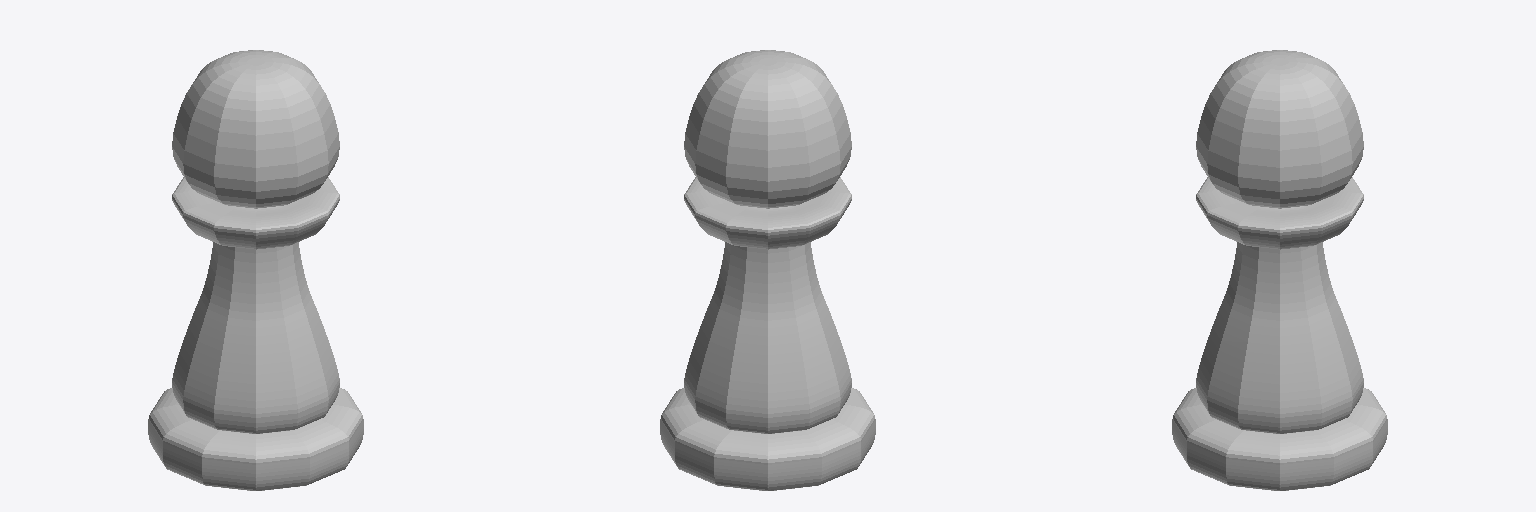
The model's file is pionek.obj.
3 renders of one model, left to right at view 1: azimuth 30°, elevation 25°; view 2: azimuth 150°, elevation 25°; view 3: azimuth 270°, elevation 25°, orthographic.
Visible parts, largest first — view 1: BézierCurve; view 2: BézierCurve; view 3: BézierCurve.
Part boxes in pixels (bbox=[...]): BézierCurve: bbox=[148, 50, 363, 490]; BézierCurve: bbox=[660, 50, 875, 490]; BézierCurve: bbox=[1172, 50, 1387, 490].
Size of the model in its own units: 1.21 by 2.4 by 1.21.